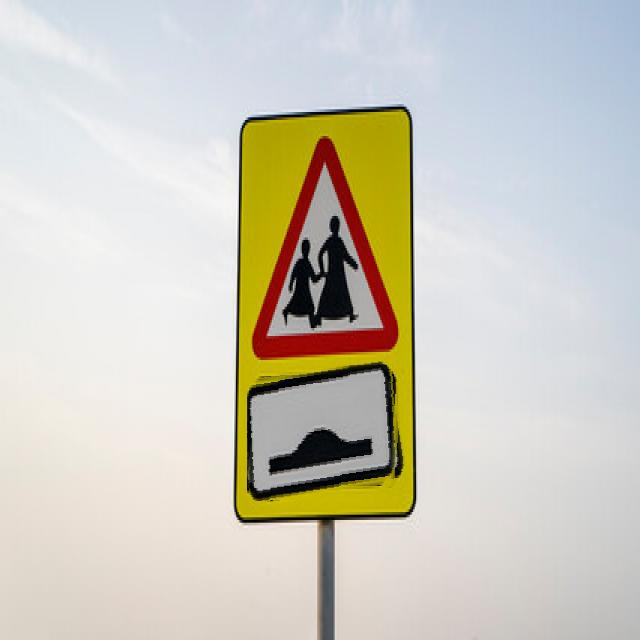hump: (247, 365, 404, 501)
